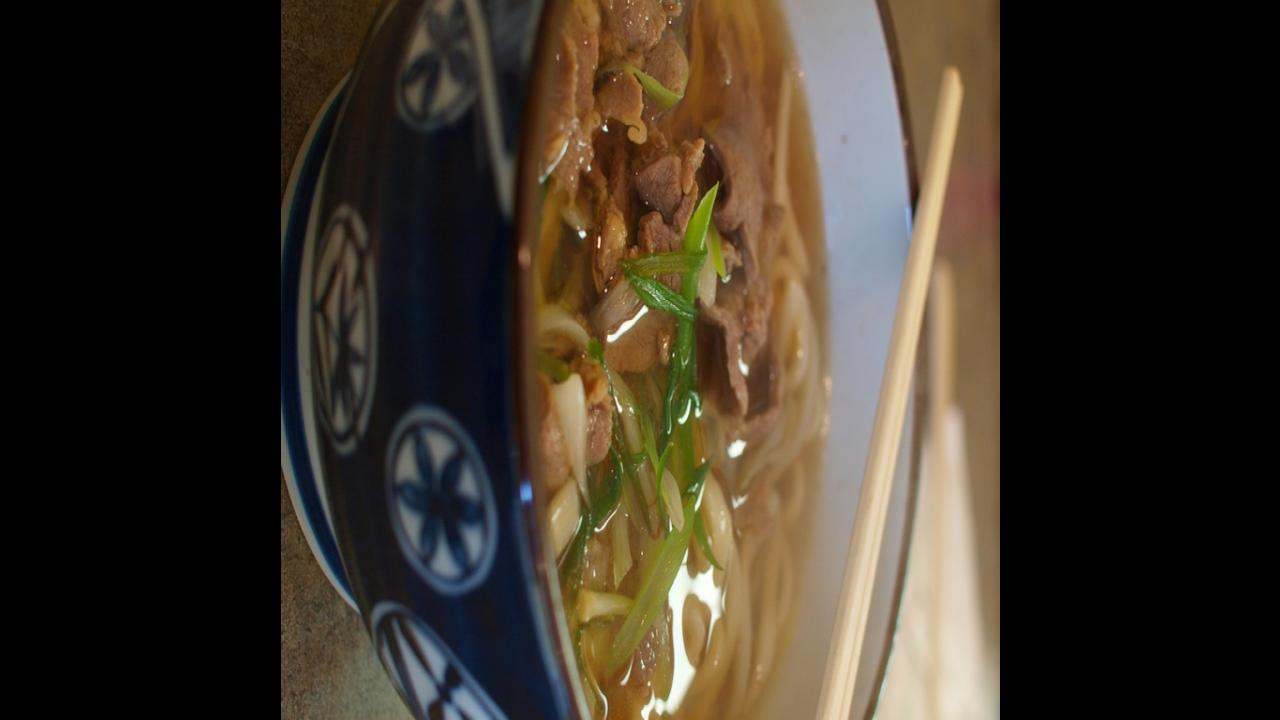chopstick: (756, 67, 966, 720)
